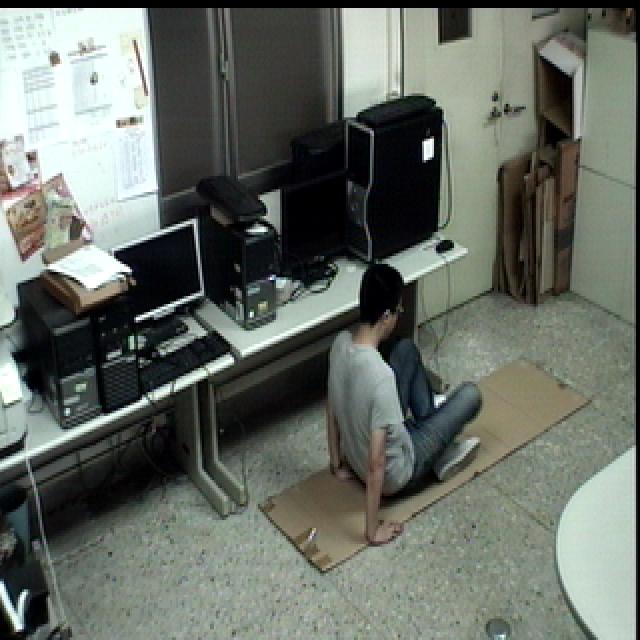sit: (312, 249, 488, 550)
